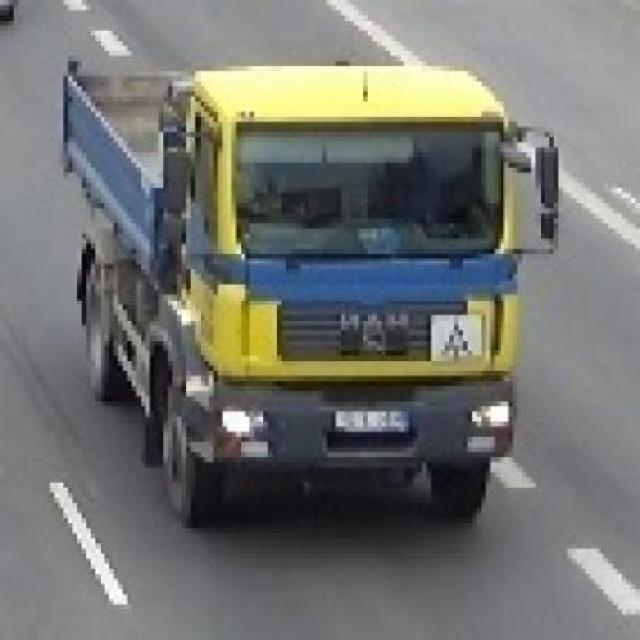truck: (56, 46, 554, 519)
